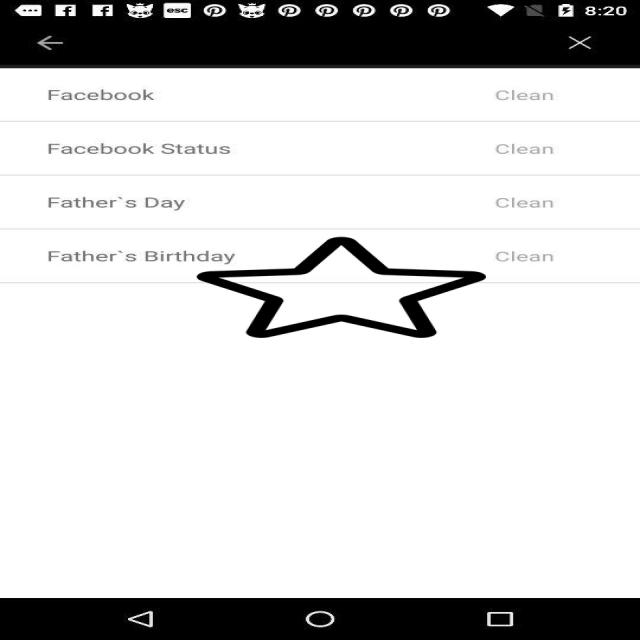forced continuity: (197, 235, 486, 340)
